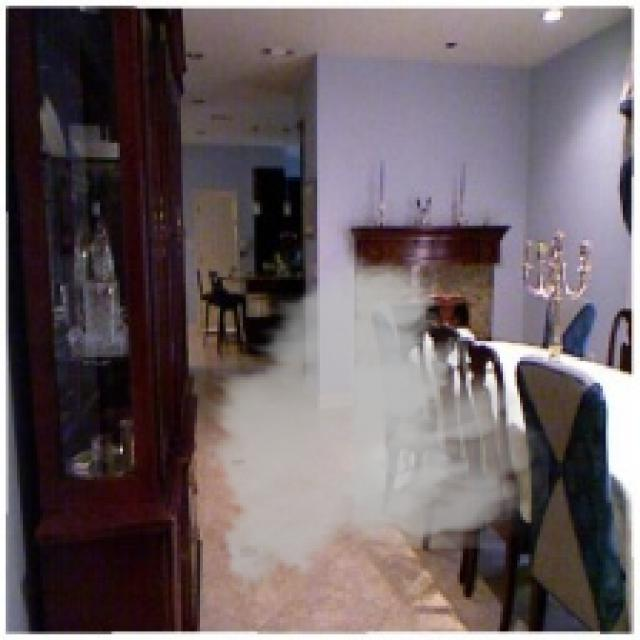smoke: (200, 240, 549, 603)
